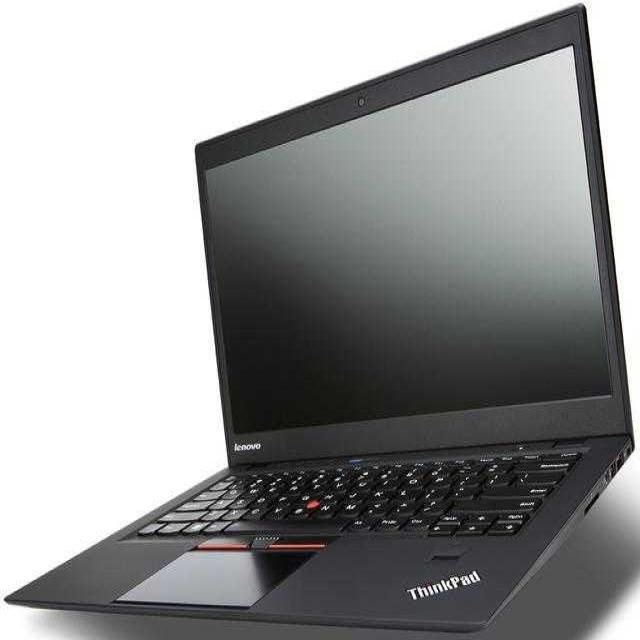laptop: (21, 7, 640, 627)
